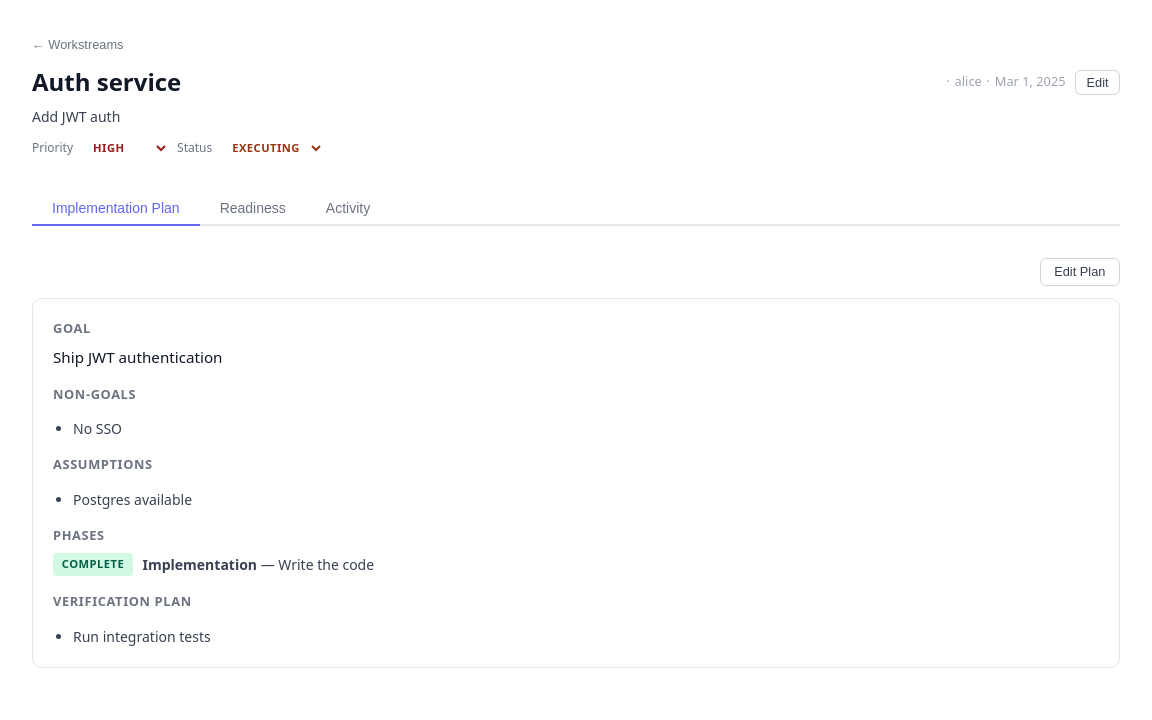
it: WorkstreamDetailView › switches to the Activity tab on click
Step 1. Click the button with class "tab-btn" showing "Activity" → (348, 209), box x1=306 y1=192 x2=390 y2=226
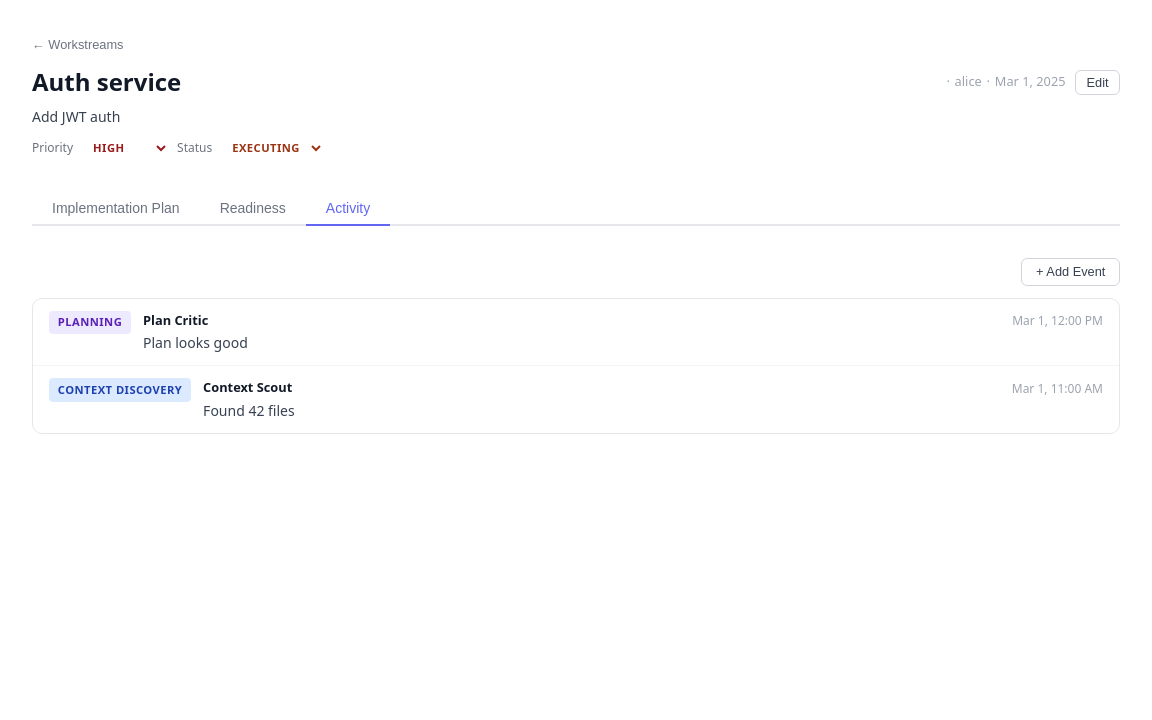
Now the text "Context Scout" is shown, box x1=203 y1=378 x2=292 y2=396
Now the text "Plan Critic" is shown, box x1=143 y1=311 x2=208 y2=329
